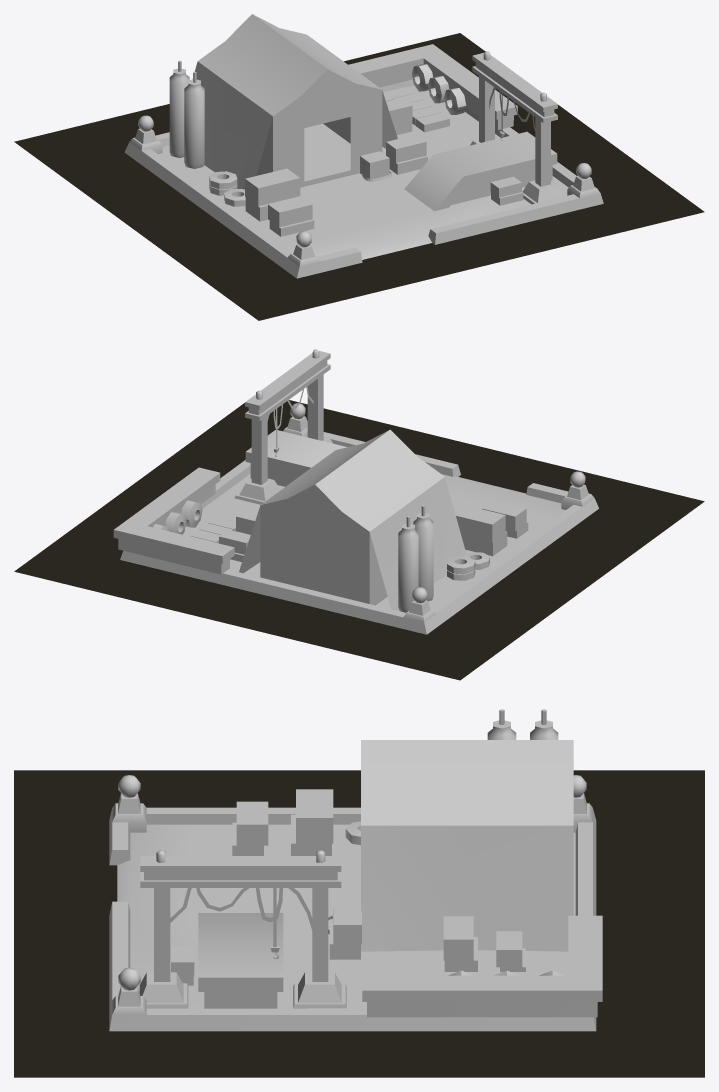
The model's file is yiliaosuo_01.FBX.
3 views of the same model, one above another, from view 1: azimuth 30°, elevation 25°; view 2: azimuth 150°, elevation 25°; view 3: azimuth 270°, elevation 25° (orthographic). The views are drawn at different scales.
Visible parts, largest first — view 1: yiliaosuo, yiliaosuo_sh; view 2: yiliaosuo, yiliaosuo_sh; view 3: yiliaosuo, yiliaosuo_sh.
Part boxes in pixels (<box>): yiliaosuo: <box>124,14,603,278</box>; yiliaosuo_sh: <box>14,33,704,320</box>; yiliaosuo: <box>113,349,598,634</box>; yiliaosuo_sh: <box>14,400,704,680</box>; yiliaosuo: <box>109,709,602,1031</box>; yiliaosuo_sh: <box>14,770,704,1077</box>.
Bounding box in the file's own units: 1385 × 1316 × 348.
